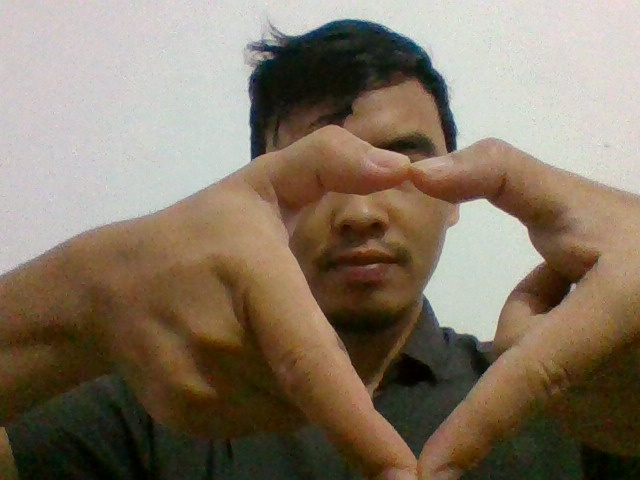iloveyou: (180, 128, 622, 480)
